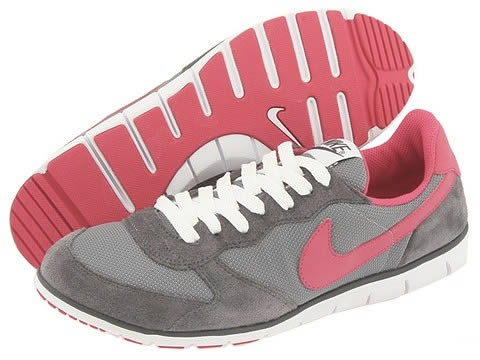nike: (297, 190, 444, 290)
